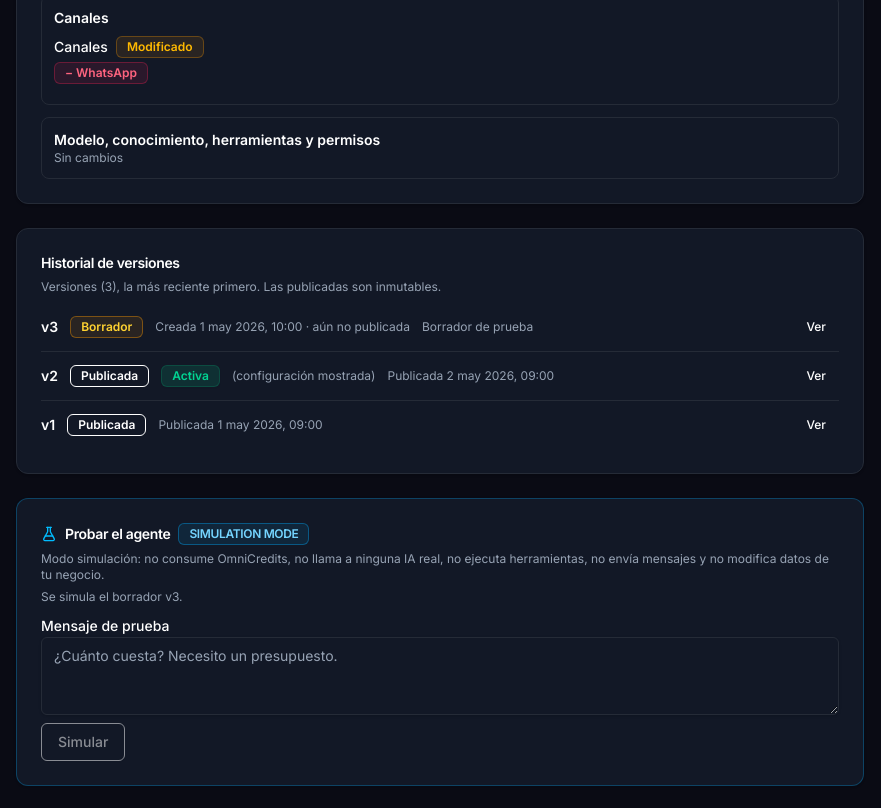
it: Historial de versiones › al seleccionar una versión se identifica y muestra SU configuración, no la actual
The width and height of the screenshot is (881, 808).
(page scrolled)
Click the button "Ver" in the row of "Publicada 1 may 2026, 09:00".
click(816, 424)  # box [793,408,839,440]
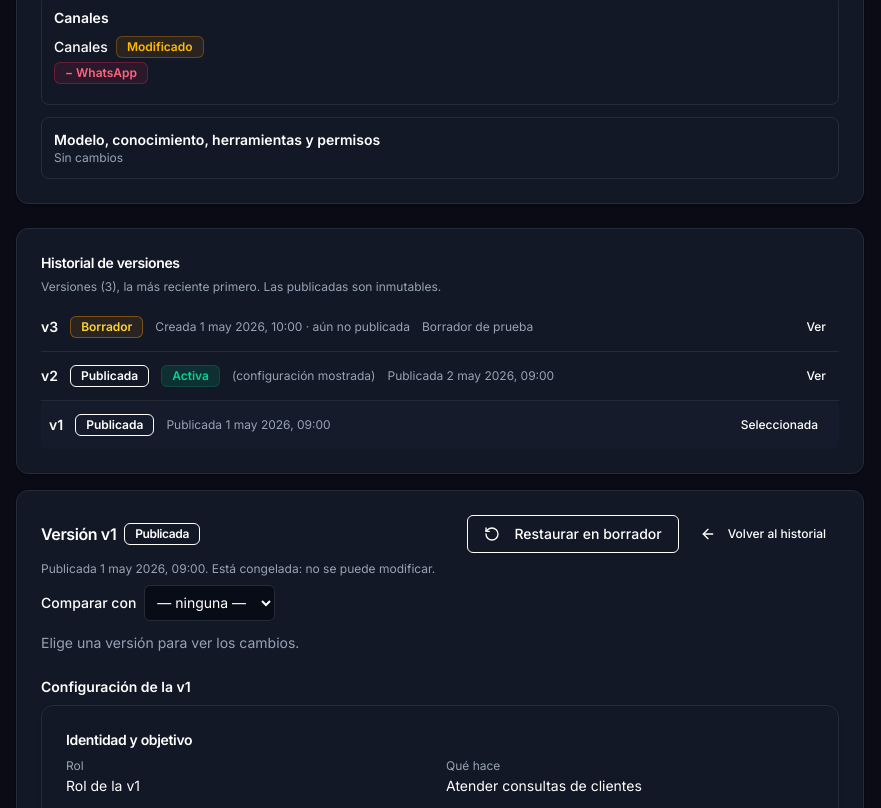
Result: the text with test id "version-detail-title" reads "Versión v1" at [41,522,116,546]
Result: the text with test id "version-detail-state" reads "Publicada" at [135,526,189,540]
Result: the text with test id "version-config-title" reads "Configuración de la v1" at [41,678,191,694]
